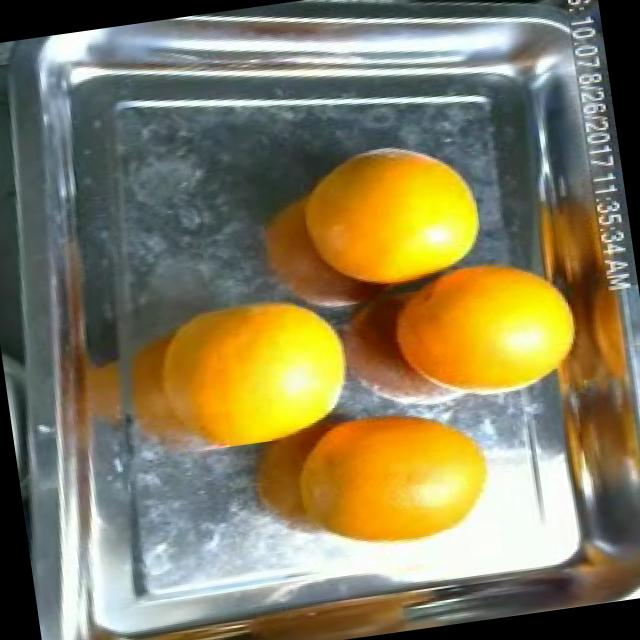Fruit: (367, 236, 599, 410), (286, 120, 507, 302), (332, 397, 510, 560)
